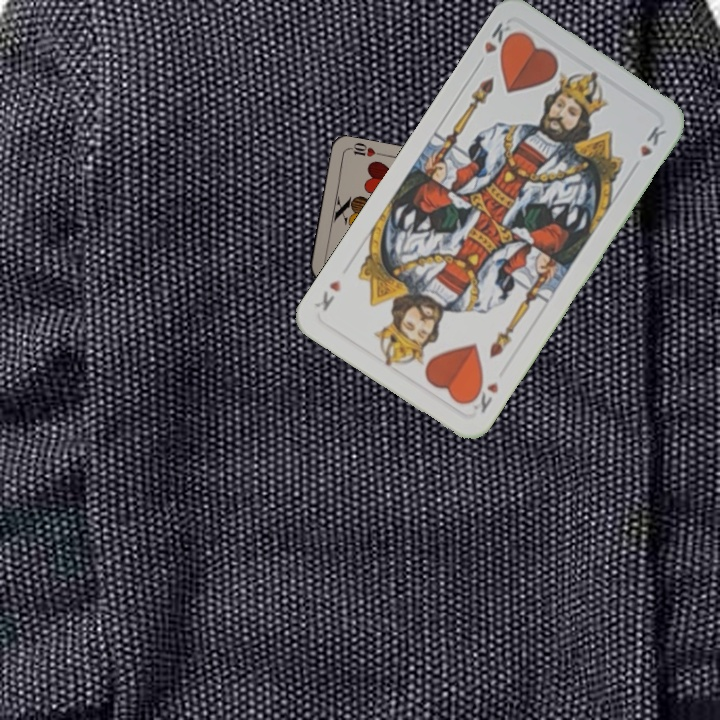HK: (472, 18, 520, 71), (465, 376, 502, 416)
